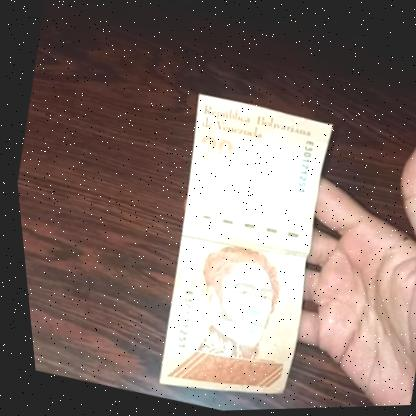twenty-front-vef: (125, 91, 350, 413)
